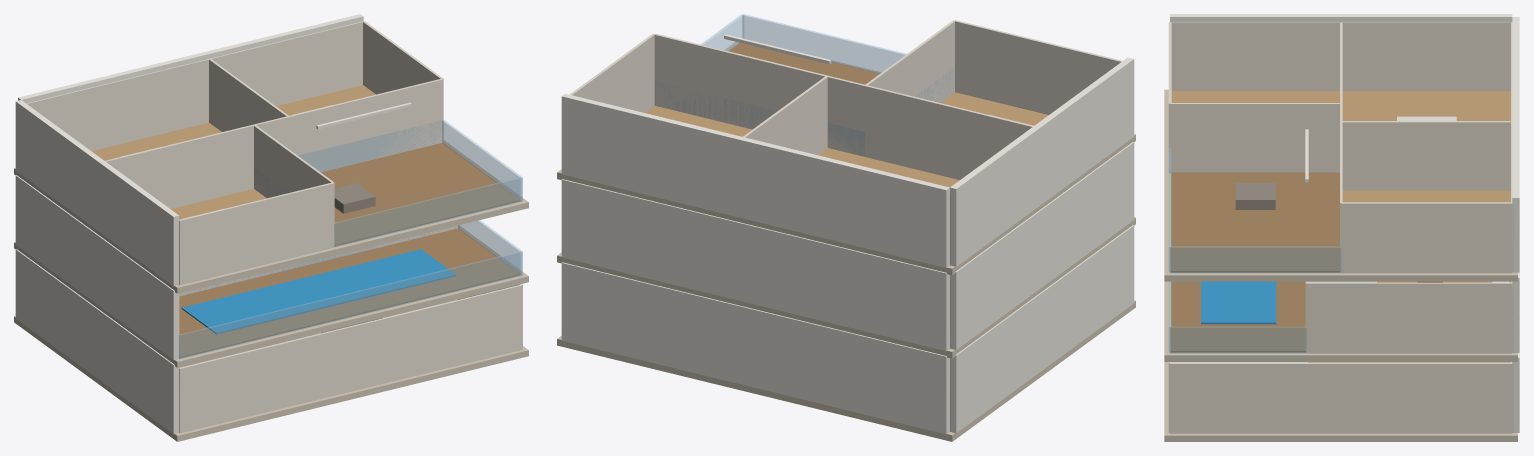
Rendered from villa-3.glb.
3 views of the same model, side by side, from view 1: azimuth 30°, elevation 25°; view 2: azimuth 150°, elevation 25°; view 3: azimuth 270°, elevation 25° (orthographic). The views are drawn at different scales.
Parts seen in each view (by area): view 1: level-upper, level-lower, level-main, slab (×3), floor-pool, floor-terrace, floor-bed1, floor-bed2, floor-bed3; view 2: level-upper, level-lower, level-main, slab (×3), floor-terrace, floor-bed3, floor-bed1, floor-bed2; view 3: level-upper, level-lower, level-main, floor-terrace, slab (×3), floor-pool, floor-bed1, floor-bed2, floor-bed3.
Part boxes in pixels (x1,y1,x2,y2): level-upper: [15, 14, 522, 286]; level-lower: [15, 249, 522, 434]; level-main: [15, 175, 522, 360]; slab (×3): [14, 140, 528, 441]; floor-pool: [179, 228, 520, 357]; floor-terrace: [321, 143, 520, 246]; floor-bed1: [92, 122, 221, 160]; floor-bed2: [276, 85, 375, 115]; floor-bed3: [171, 189, 266, 219]; level-upper: [561, 14, 1134, 267]; level-lower: [561, 225, 1134, 434]; level-main: [561, 142, 1134, 351]; slab (×3): [557, 42, 1135, 441]; floor-terrace: [729, 43, 879, 84]; floor-bed3: [941, 92, 1048, 125]; floor-bed1: [818, 148, 959, 187]; floor-bed2: [645, 105, 752, 136]; level-upper: [1168, 14, 1519, 273]; level-lower: [1168, 353, 1519, 433]; level-main: [1168, 272, 1519, 353]; floor-terrace: [1171, 172, 1339, 272]; slab (×3): [1164, 89, 1517, 441]; floor-pool: [1171, 281, 1305, 352]; floor-bed1: [1342, 91, 1510, 120]; floor-bed2: [1342, 190, 1510, 202]; floor-bed3: [1171, 91, 1339, 102].
Size of the model in its own units: 15.45 by 9.35 by 12.45.
